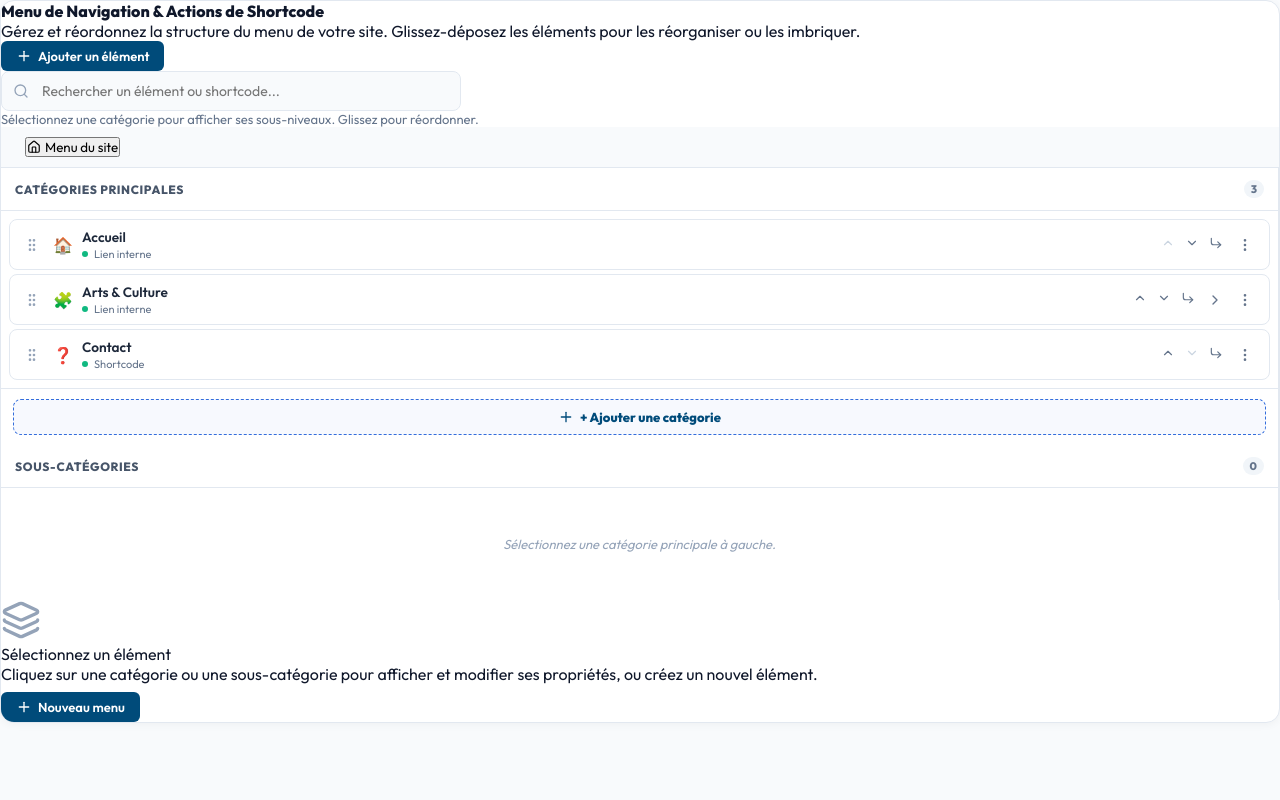
Test: MenuManager Column-Based Navigation Tests › breadcrumb navigation resets to root when clicking Menu du site
# Navigate down
Step 1. Click the text "Arts & Culture" → point(125, 292), box [82,283,168,301]
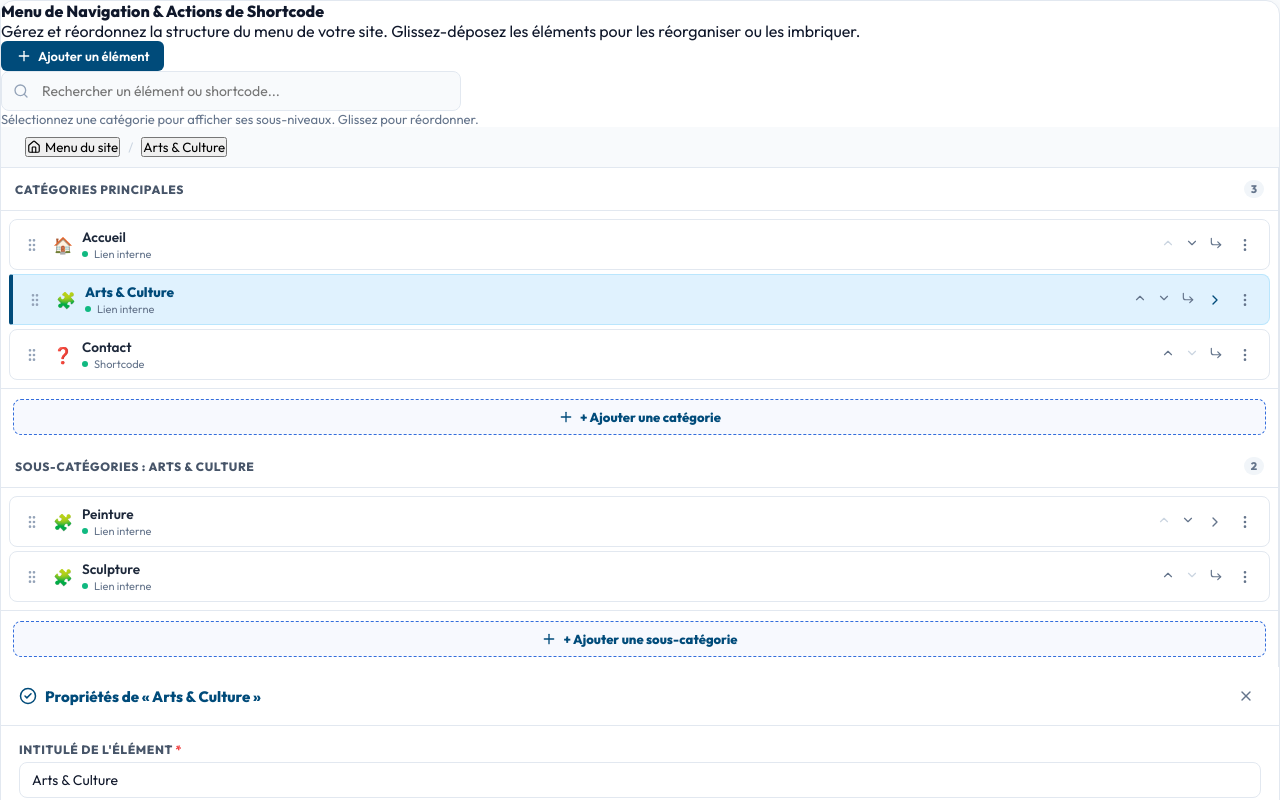
Result: the text "Peinture" is shown at [82,505,134,523]
# Click breadcrumb root
Step 2. Click the button "Menu du site" → point(73, 147), box [25,137,120,157]
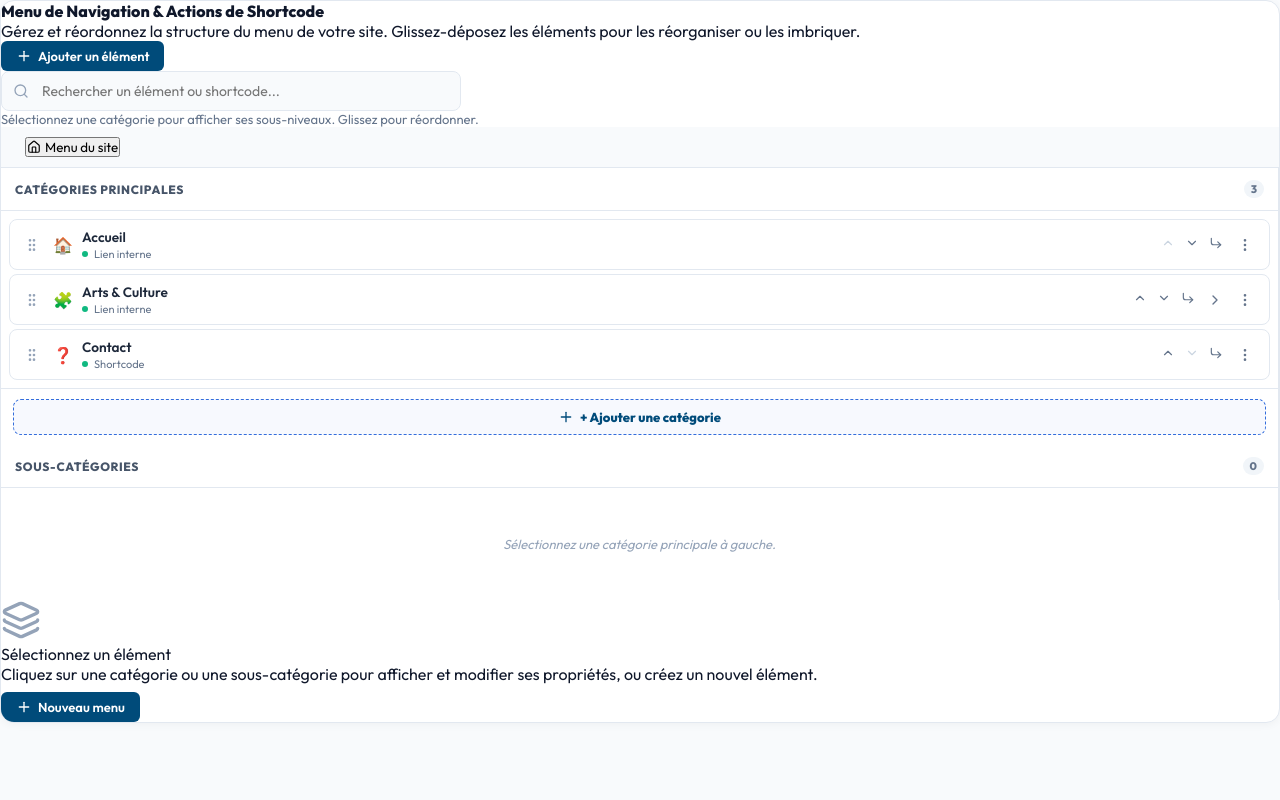
Result: the button "Peinture" is gone
Result: the text "Sélectionnez une catégorie principale à gauche." is shown at [503,536,776,552]
